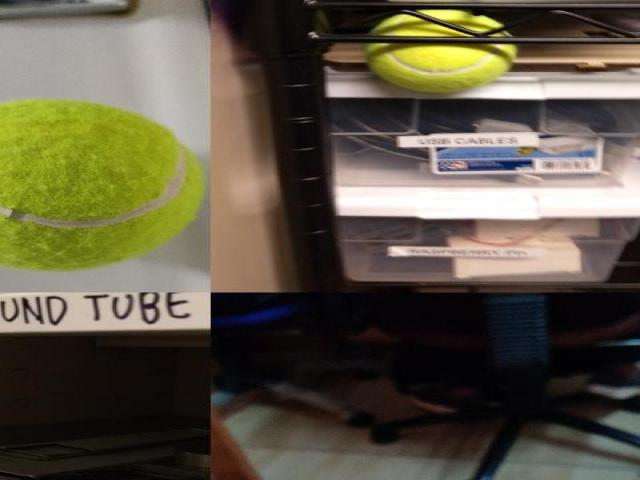tennis-ball: (0, 97, 208, 273), (364, 11, 518, 94)
